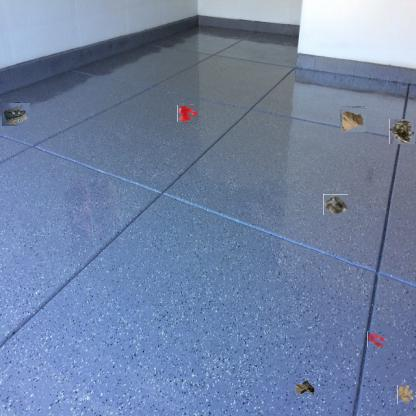dirty: (3, 101, 29, 127), (389, 119, 415, 144), (341, 107, 366, 132), (323, 194, 348, 215), (294, 376, 316, 399), (396, 386, 412, 403)
liquid: (178, 104, 198, 123), (367, 331, 388, 347)
